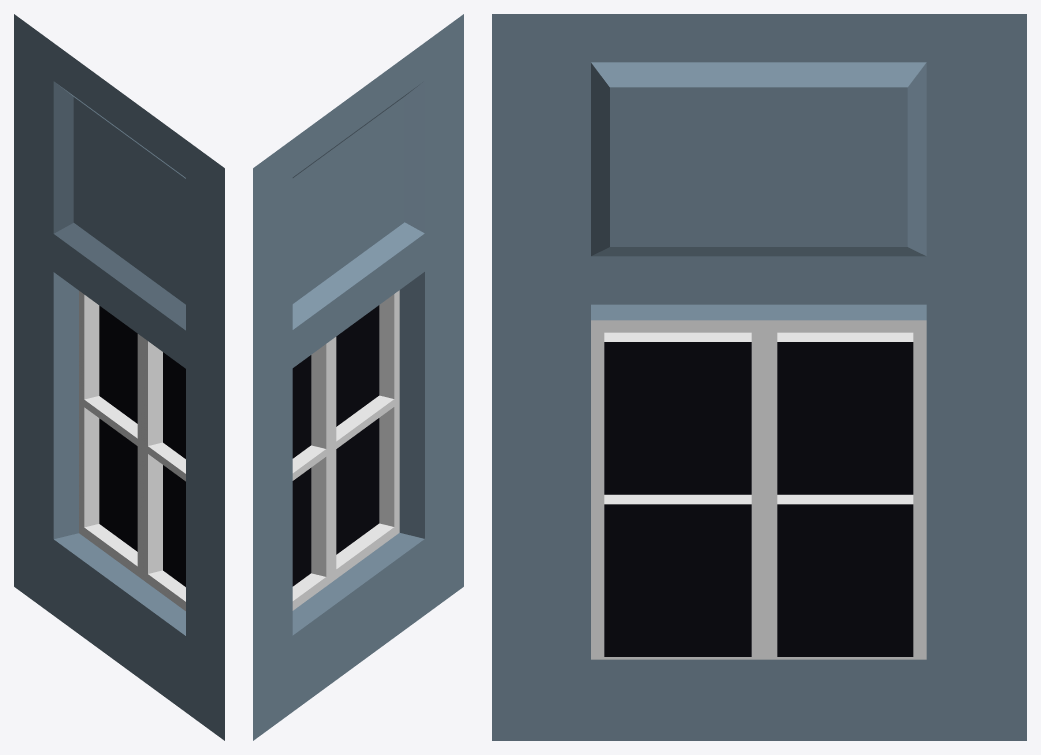
Rendered from B3_wall_window_small.FBX.
The picture shows the model from 3 angles, left to right: view 1: azimuth 30°, elevation 25°; view 2: azimuth 150°, elevation 25°; view 3: azimuth 270°, elevation 25°; orthographic projection. The views are drawn at different scales.
Parts seen in each view (by area): view 1: B3_wall_window001; view 2: B3_wall_window001; view 3: B3_wall_window001.
Boxes of the visible parts, bbox=[...] form: B3_wall_window001: bbox=[14, 14, 224, 740]; B3_wall_window001: bbox=[253, 14, 463, 740]; B3_wall_window001: bbox=[492, 14, 1026, 740].
Size of the model in its own units: 22.08 by 300 by 200.
